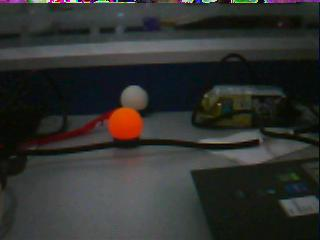oball: (108, 106, 142, 140)
